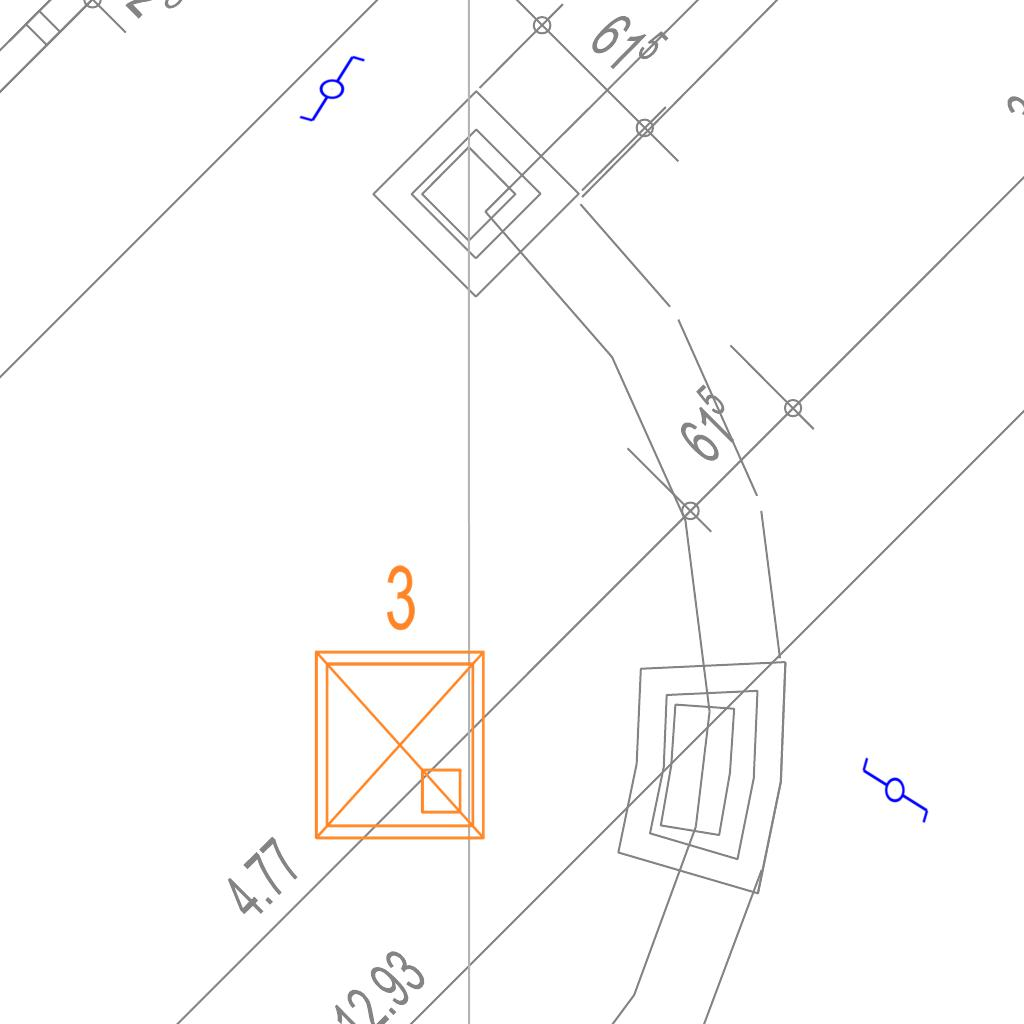Einbaudownlights_LED_Konferenzraeume: (292, 554, 500, 854)
Wechselschalter: (860, 747, 932, 825), (289, 52, 367, 124)
